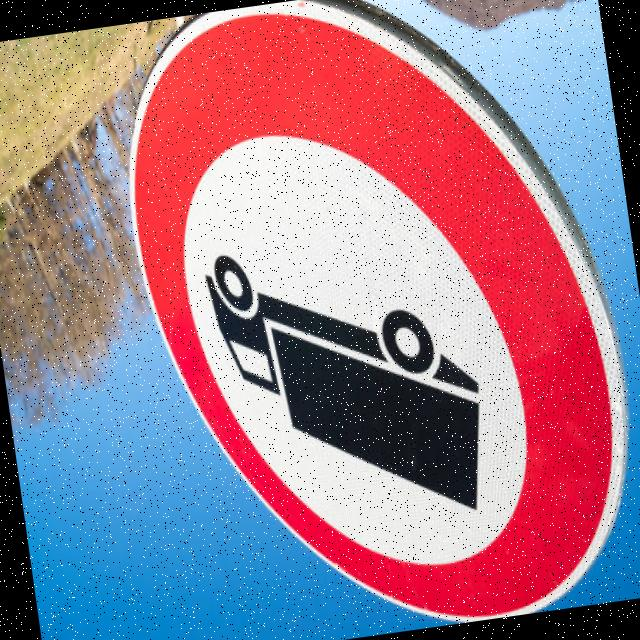do_not_enter: (101, 0, 640, 640)
